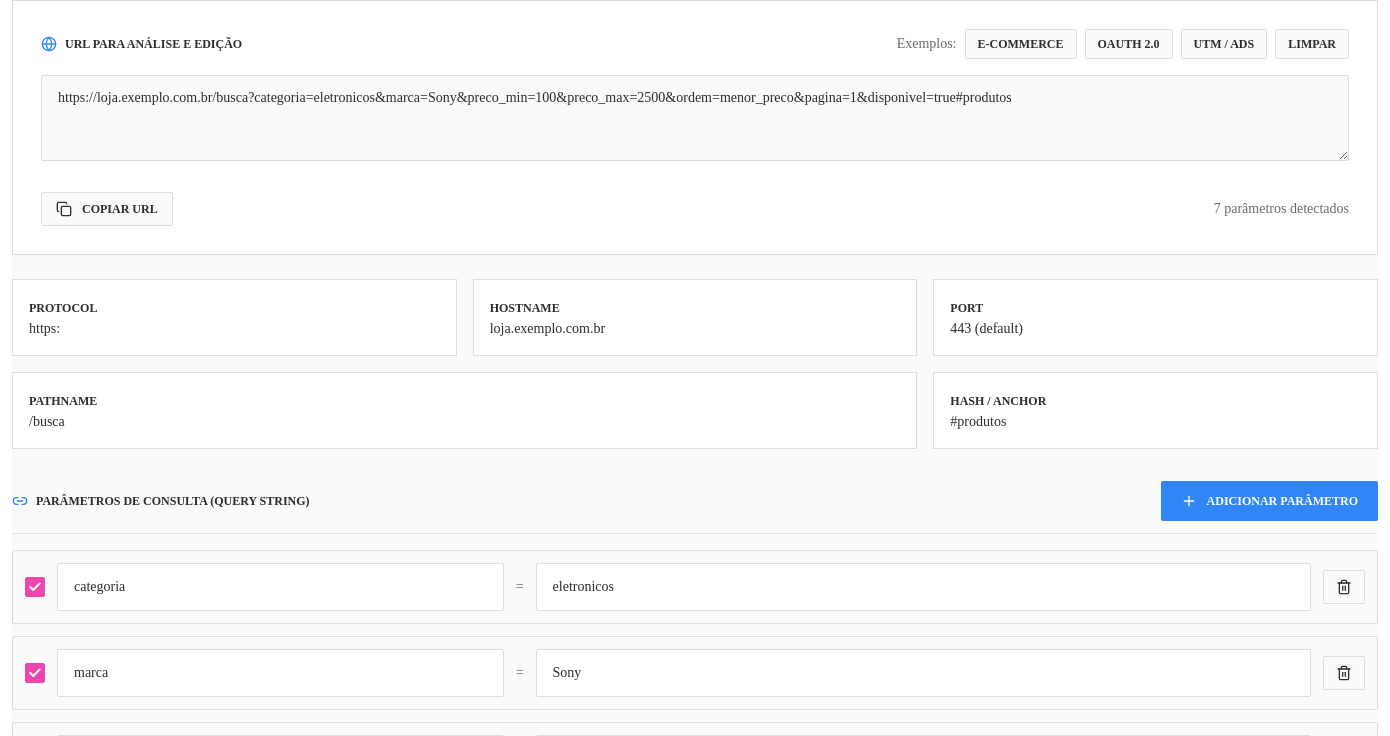
it: AppUrlParser Component › renders URL parser and shows query parameters table
Expected: the text "URL para Análise e Edição" is shown, [41,36,242,52]
Expected: the heading "Parâmetros de Consulta (Query String)" is shown, [36,493,310,509]
Click the button "UTM / Ads" at (1224, 44), box [1180,29,1267,59]
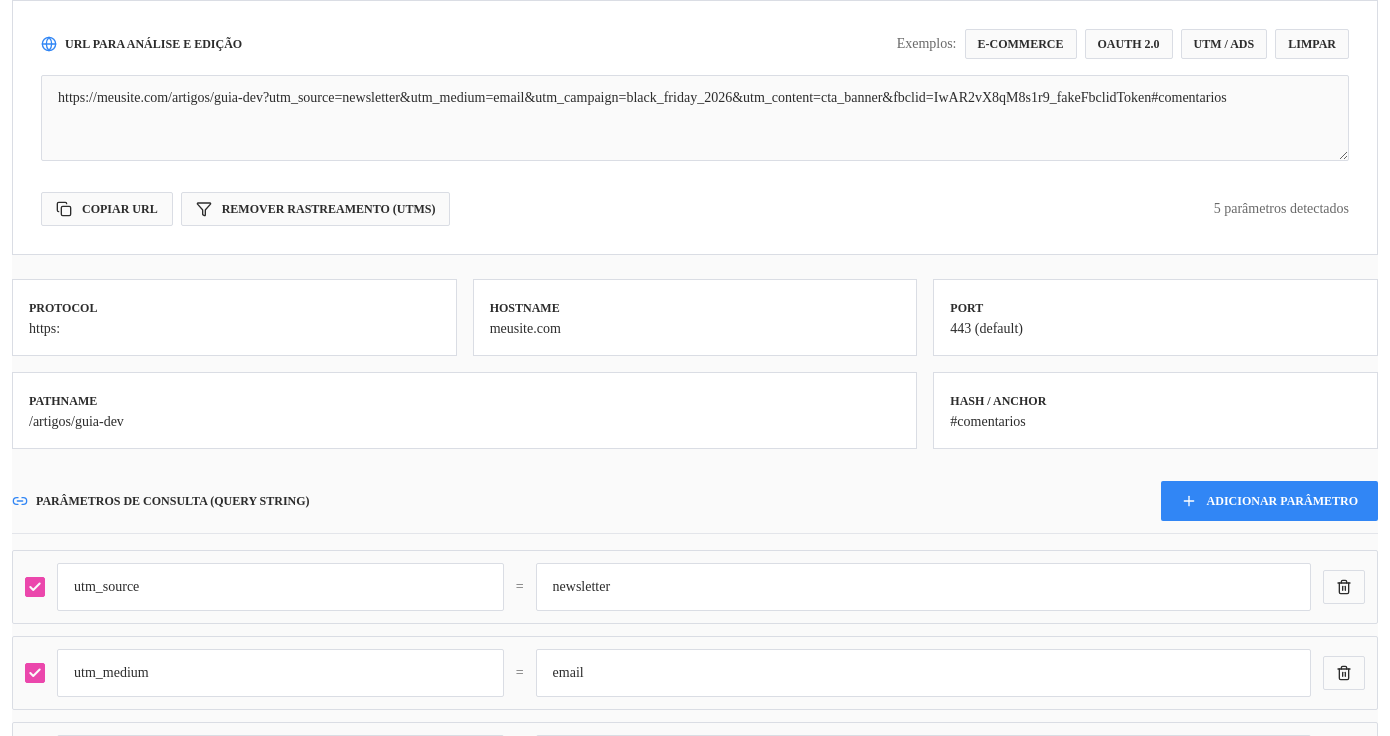
Now the text "Remover Rastreamento (UTMs)" is shown, box [222,201,436,217]
